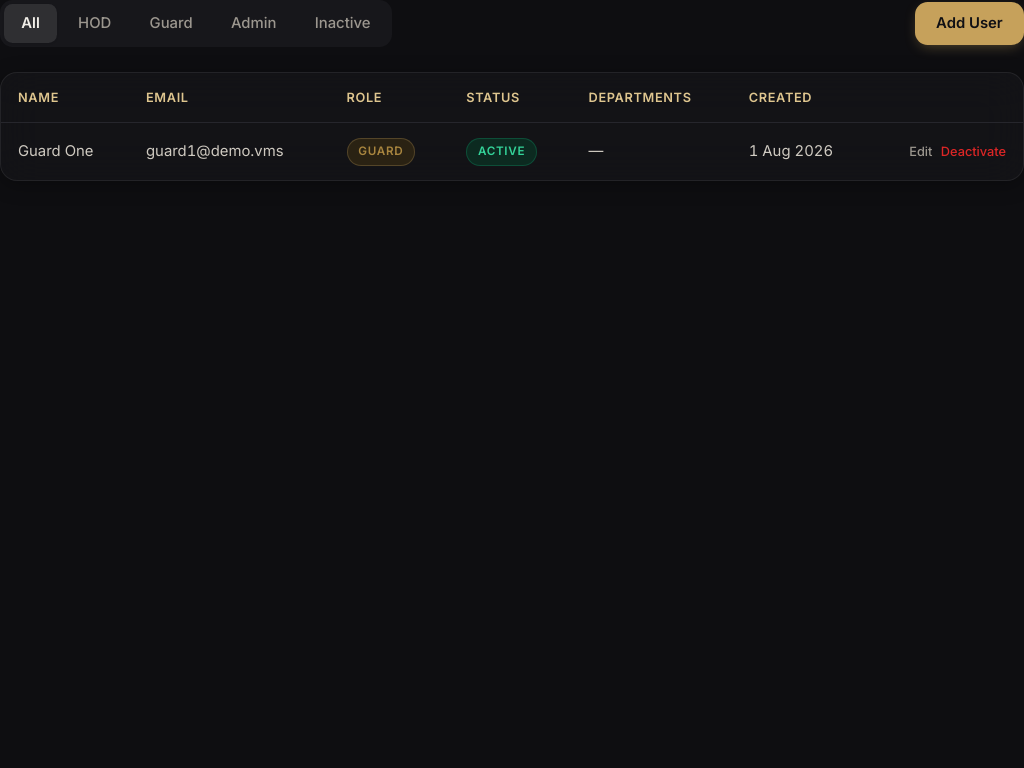
Scenario: UsersTab — deactivation is confirmed, never immediate › the row button opens the confirmation instead of deactivating
Expected: the text "Guard One" is shown, top-left (1, 123), bottom-right (129, 180)
Step 1. Click the button "Deactivate" → (973, 152), box top-left (941, 143), bottom-right (1006, 160)
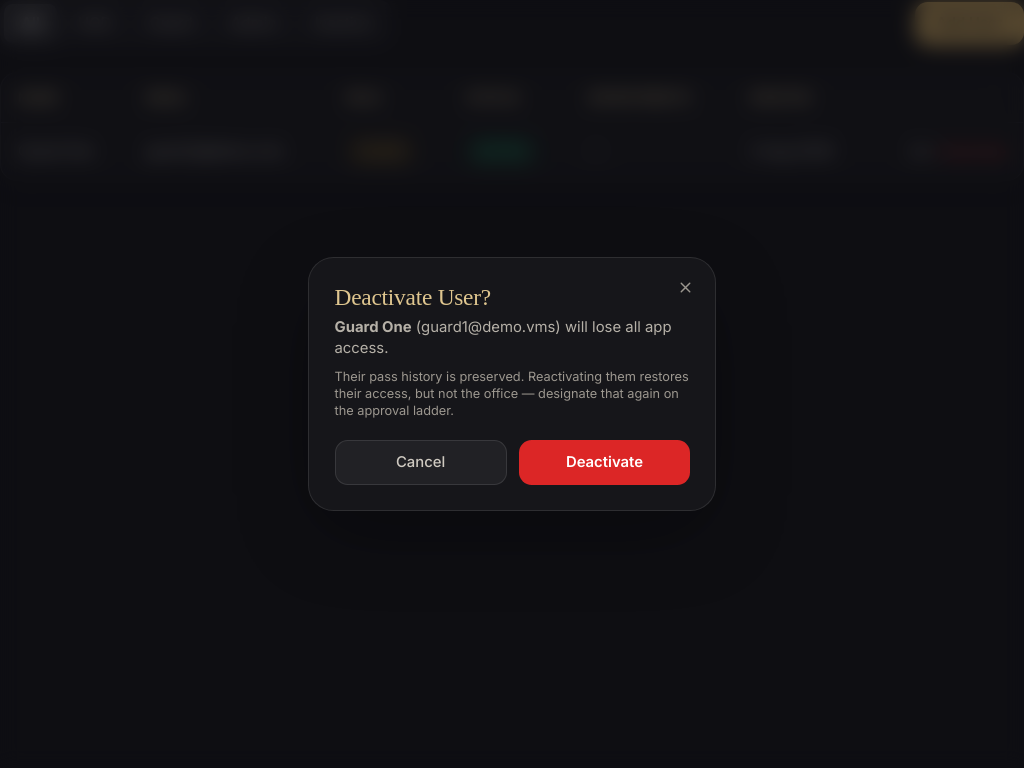
Now the heading "Deactivate User?" is shown, box top-left (334, 284), bottom-right (491, 310)
